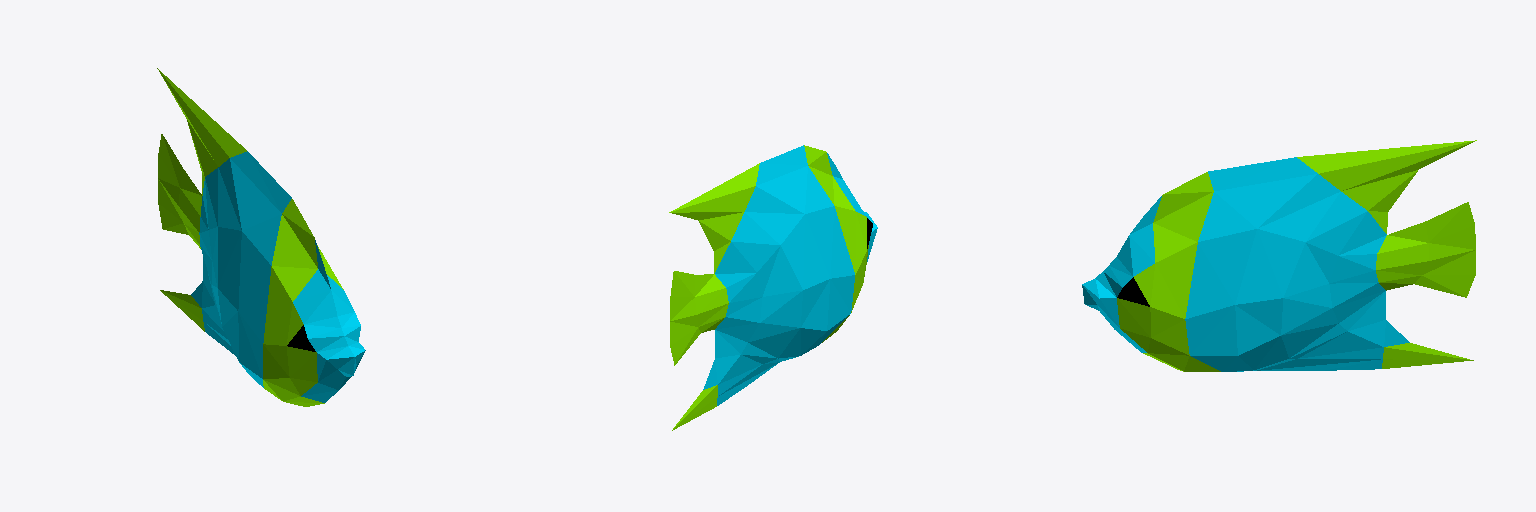
File: fishB_colorMap.obj
3 views of the same model, side by side, from view 1: azimuth 30°, elevation 25°; view 2: azimuth 150°, elevation 25°; view 3: azimuth 270°, elevation 25° (orthographic).
Size of the model in its own units: 23.74 by 65.58 by 102.